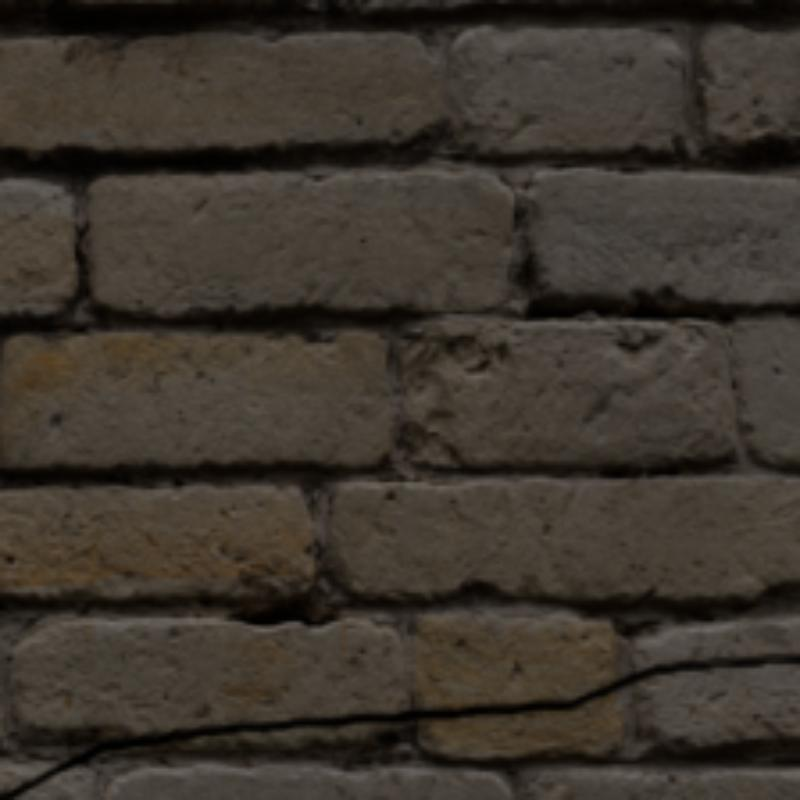pothole: (0, 654, 796, 796)
